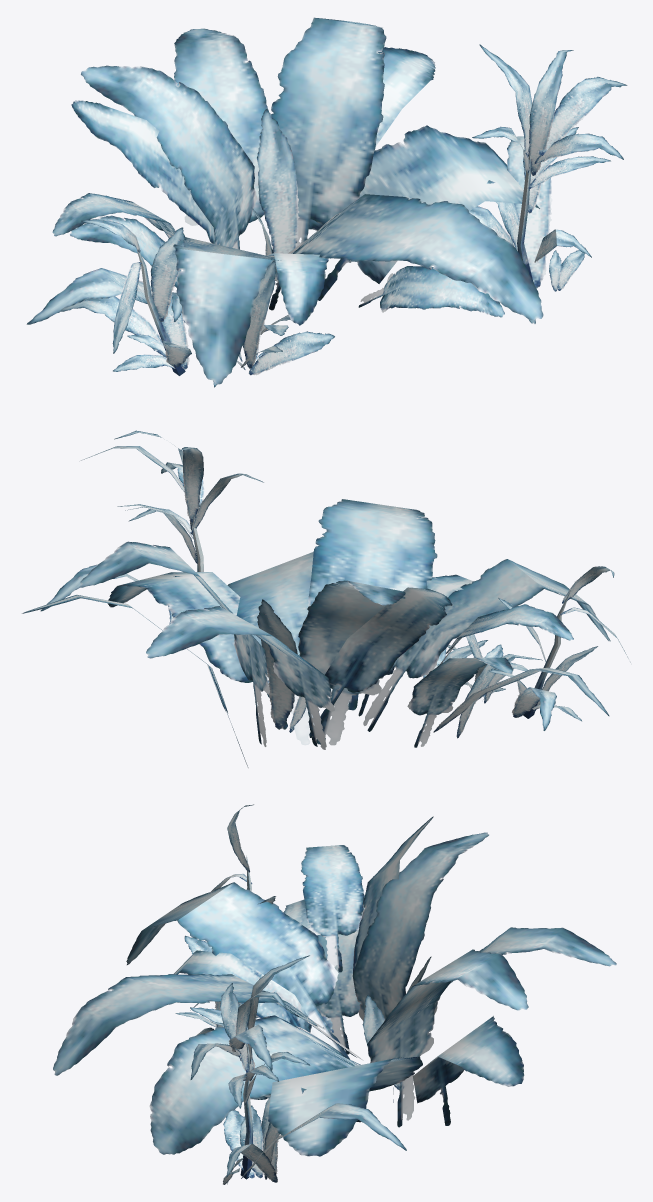
The model's file is bs_cao_4.FBX.
The picture shows the model from 3 angles, top to bottom: view 1: azimuth 30°, elevation 25°; view 2: azimuth 150°, elevation 25°; view 3: azimuth 270°, elevation 25°; orthographic projection. The views are drawn at different scales.
Parts seen in each view (by area): view 1: bs_cao_4; view 2: bs_cao_4; view 3: bs_cao_4.
Part boxes in pixels (x1,y1,x2,y2): bs_cao_4: [26, 17, 627, 387]; bs_cao_4: [22, 430, 630, 767]; bs_cao_4: [53, 804, 616, 1184].
Bounding box in the file's own units: 783 × 330 × 749.
